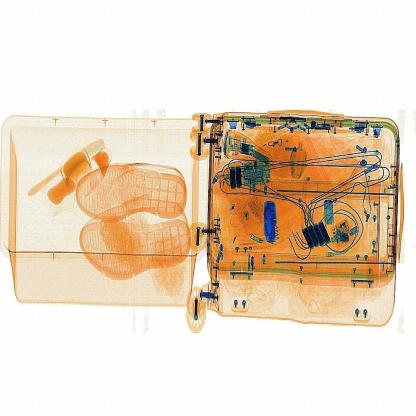scissors: (258, 192, 288, 252)
